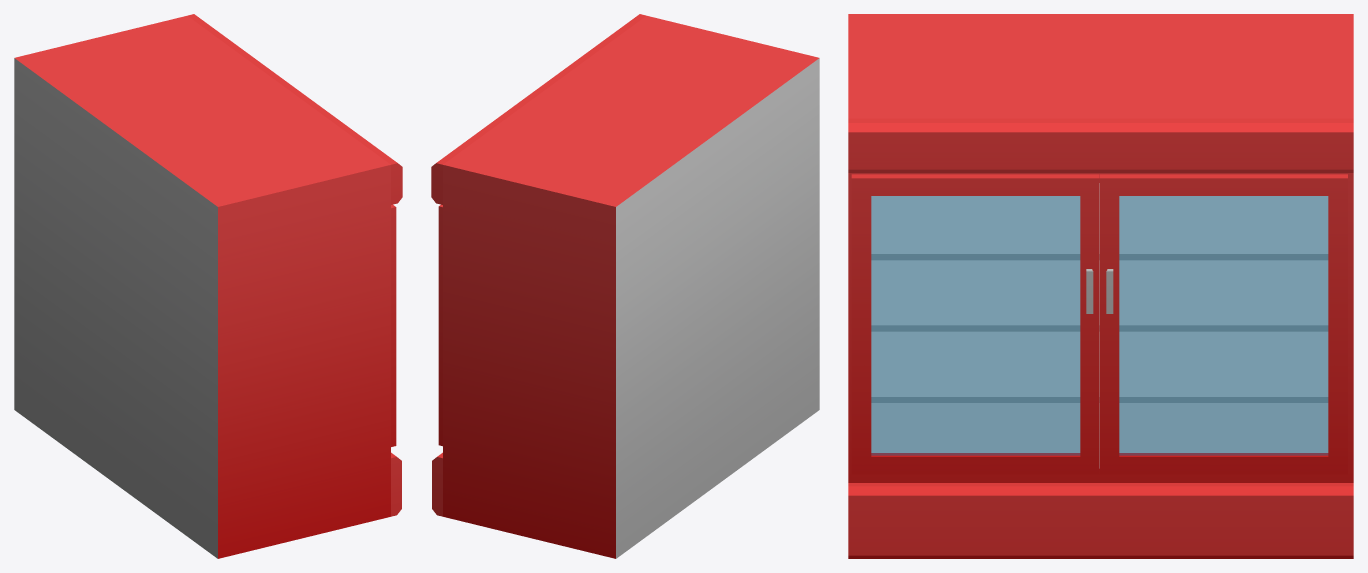
The model's file is fridge_double_red.fbx.
3 views of the same model, side by side, from view 1: azimuth 30°, elevation 25°; view 2: azimuth 150°, elevation 25°; view 3: azimuth 270°, elevation 25° (orthographic). The views are drawn at different scales.
Visible parts, largest first — view 1: fridge_double_red, fridge_door_double_red02; view 2: fridge_double_red, fridge_door_double_red01; view 3: fridge_double_red, fridge_door_double_red02, fridge_door_double_red01.
Boxes of the visible parts, x1,y1,x2,y2 form: fridge_double_red: [14, 14, 402, 558]; fridge_door_double_red02: [391, 204, 396, 446]; fridge_double_red: [431, 14, 819, 558]; fridge_door_double_red01: [438, 204, 442, 446]; fridge_double_red: [848, 14, 1353, 558]; fridge_door_double_red02: [851, 174, 1099, 474]; fridge_door_double_red01: [1100, 174, 1347, 474].
Bounding box in the file's own units: 680 × 1238 × 1298.
